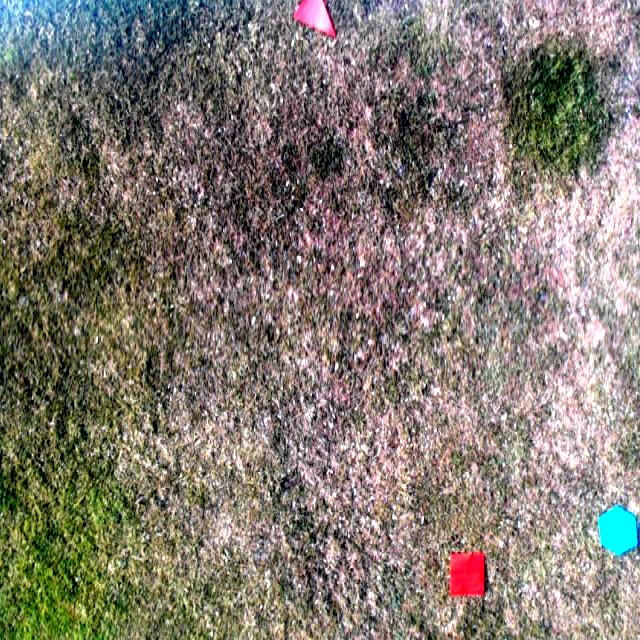blue_hexagon: (597, 508, 637, 559)
red_square: (450, 552, 485, 597)
